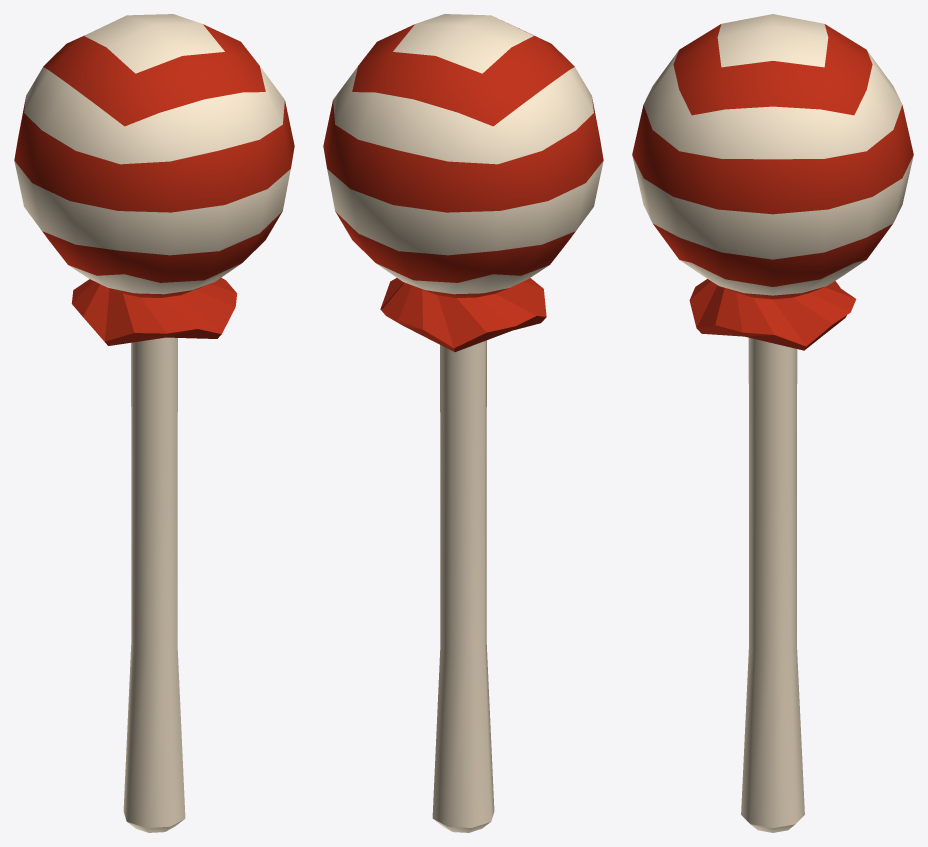
Rendered from Candy_3.fbx.
3 renders of one model, left to right at view 1: azimuth 30°, elevation 25°; view 2: azimuth 150°, elevation 25°; view 3: azimuth 270°, elevation 25°, orthographic.
Parts seen in each view (by area): view 1: Candy_3; view 2: Candy_3; view 3: Candy_3.
Part boxes in pixels (box(x1,y1,x2,y2)): Candy_3: box(14, 14, 294, 832); Candy_3: box(323, 14, 603, 832); Candy_3: box(632, 14, 913, 832).
Bounding box in the file's own units: 5.03 × 15.79 × 5.03.
